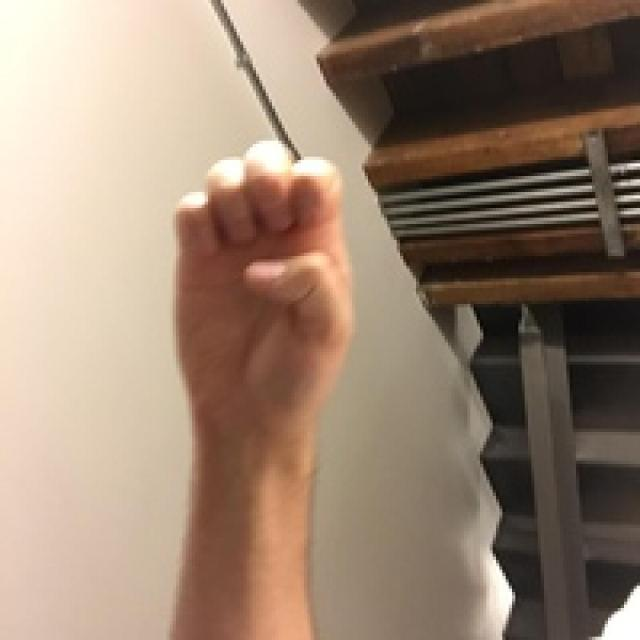E: (113, 100, 480, 479)
